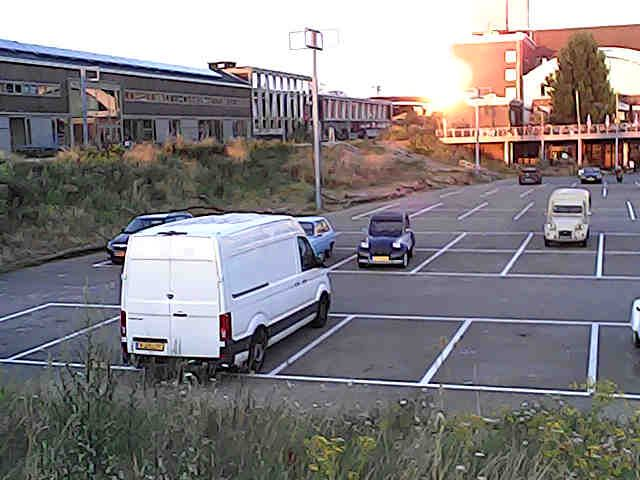suv: (106, 212, 191, 263), (357, 212, 414, 267), (544, 188, 590, 246), (296, 216, 336, 259), (630, 298, 639, 347), (518, 166, 541, 184), (578, 166, 602, 183)
whitevan: (121, 214, 330, 373)
